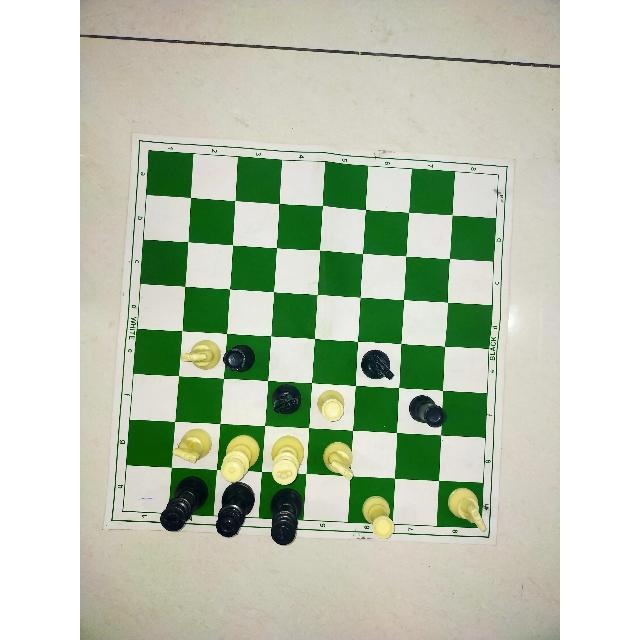black-king: (156, 474, 210, 538), (266, 485, 306, 550)
black-knight: (358, 343, 398, 383), (269, 380, 307, 422)
black-queen: (213, 474, 257, 542)
black-rook: (407, 390, 451, 435), (221, 340, 261, 378)
white-king: (155, 474, 211, 539), (267, 426, 309, 488), (267, 484, 306, 548), (268, 427, 304, 488)
white-knight: (441, 484, 487, 536), (443, 484, 488, 535), (168, 422, 214, 471), (314, 436, 359, 486), (170, 424, 214, 470), (317, 438, 358, 486), (178, 335, 221, 380), (179, 338, 223, 377), (358, 346, 397, 384), (269, 381, 305, 422)
white-queen: (214, 476, 256, 541), (215, 431, 262, 485), (219, 431, 262, 487)
white-rook: (358, 490, 399, 542), (358, 492, 399, 542), (407, 392, 450, 434), (313, 388, 352, 424), (314, 388, 350, 424), (221, 342, 258, 377)
